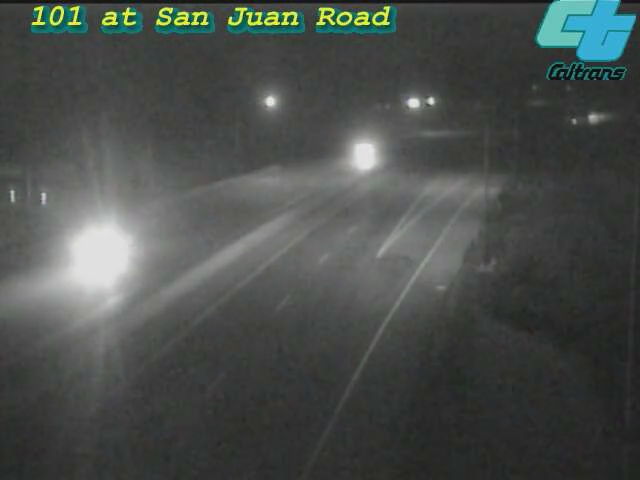vehicle: (53, 215, 133, 295), (320, 117, 400, 197), (574, 91, 624, 141)
